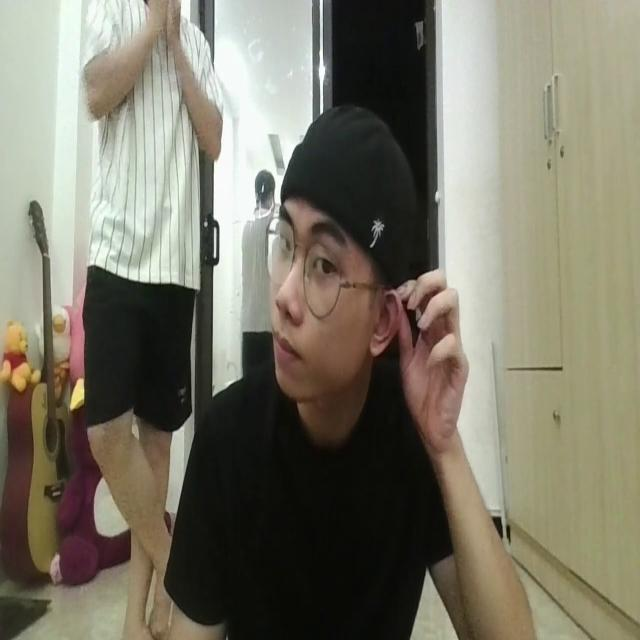extra_person: (70, 0, 222, 640)
student: (173, 97, 547, 640)
